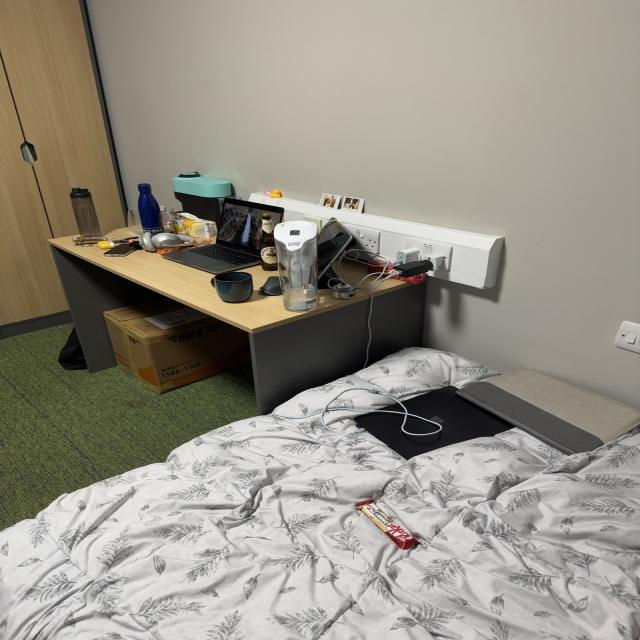beer: (255, 207, 287, 277)
chocolate: (353, 492, 427, 552)
